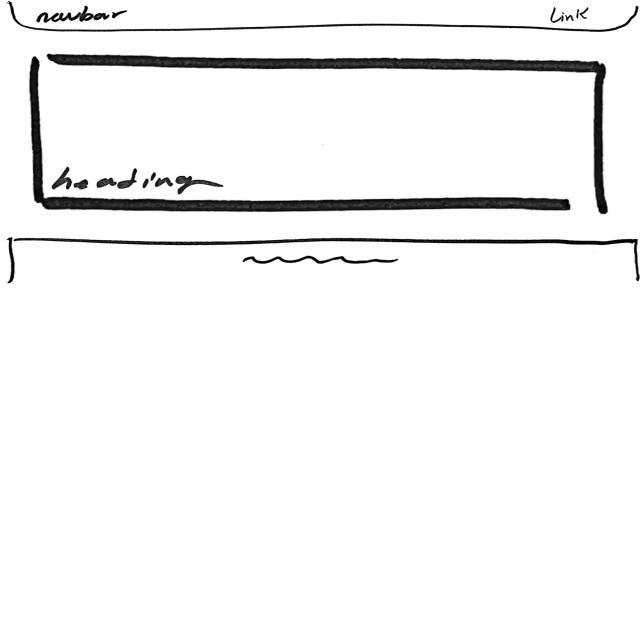container: (29, 54, 606, 214), (3, 0, 640, 31)
label: (48, 168, 222, 192), (34, 5, 127, 24), (550, 4, 592, 24)
text: (239, 252, 399, 271)
